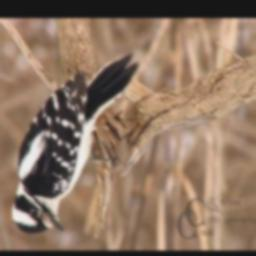Woodpecker: (9, 48, 141, 235)
